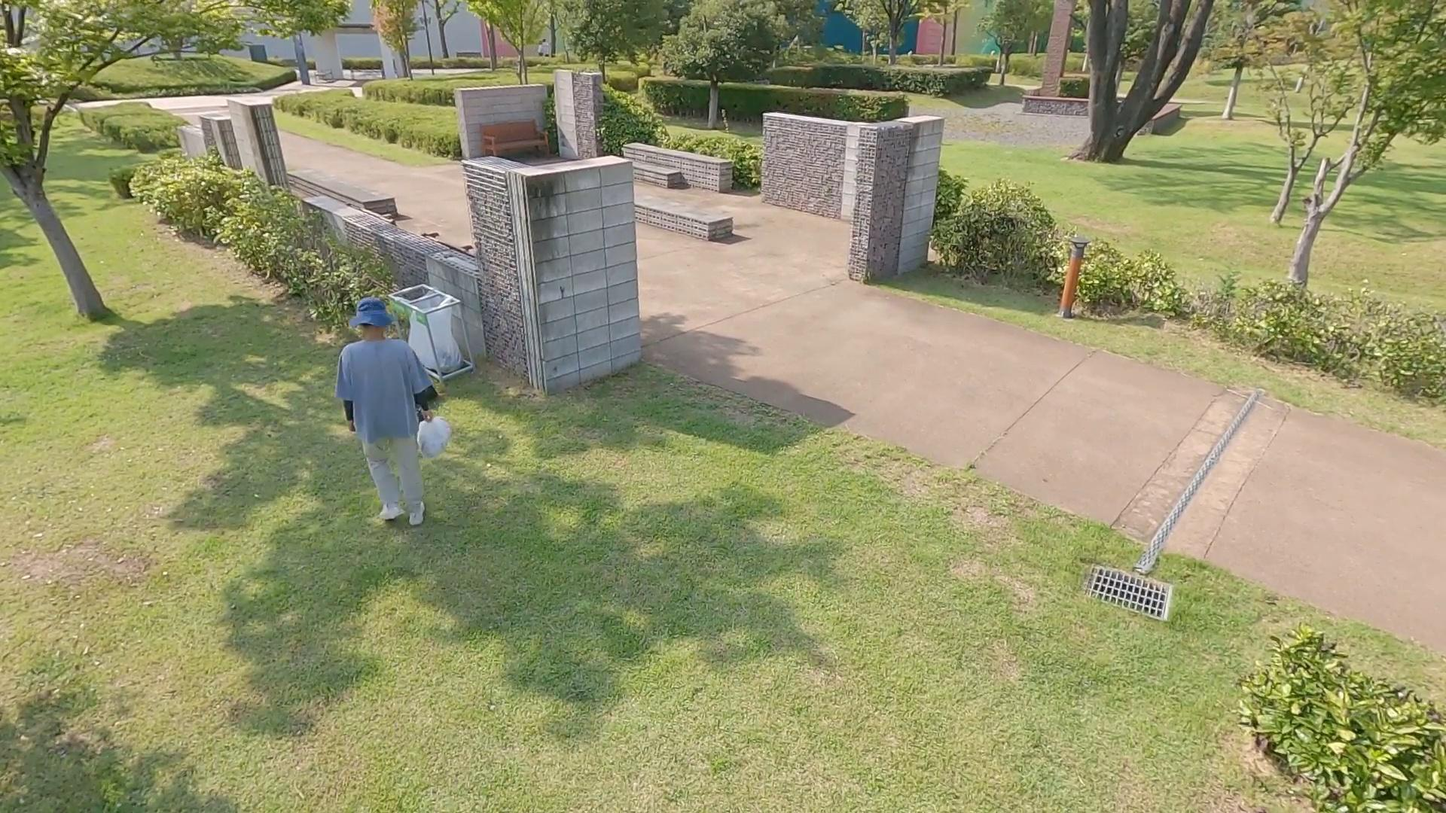person: (328, 292, 439, 530)
trash: (418, 411, 455, 459)
